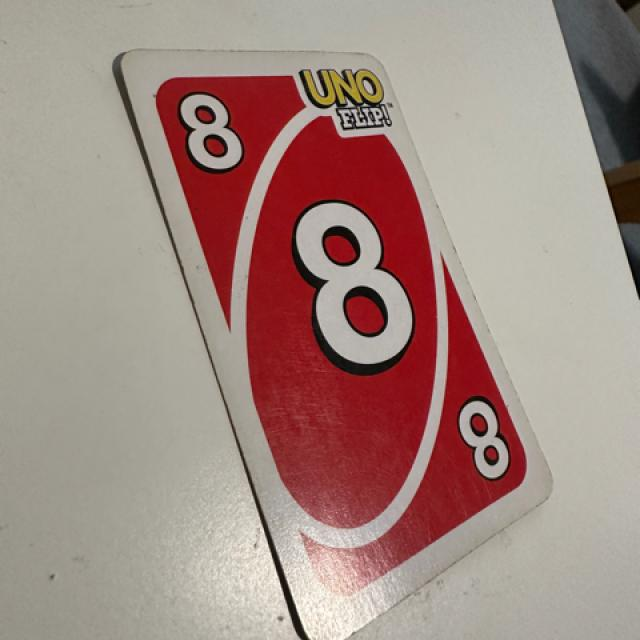lred-8: (163, 65, 269, 195)
